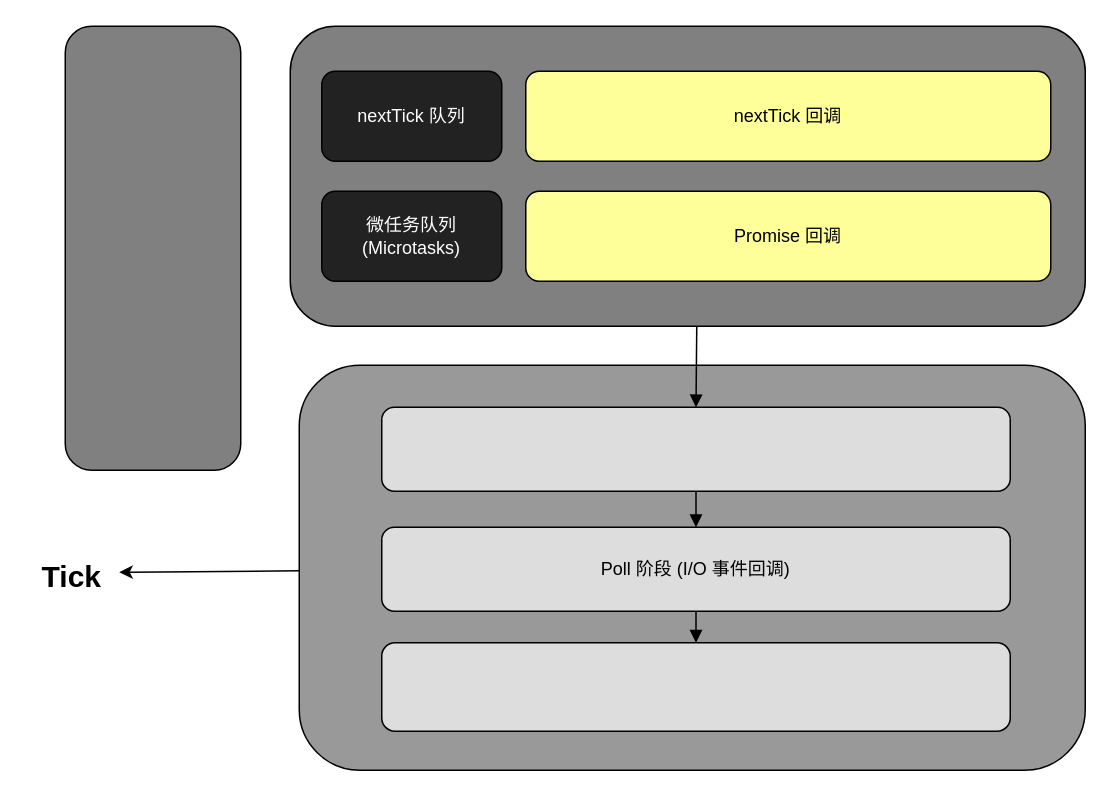
Some shapes in this 1112 by 797 pixel diagram are drawn without their labels. The centre of each missing label's shape, as x and y in pixels:
Check 阶段 (setImmediate): the point at 695,686
Timer 阶段 (setTimeout/setInterval): the point at 695,448
调用栈: the point at 152,247
